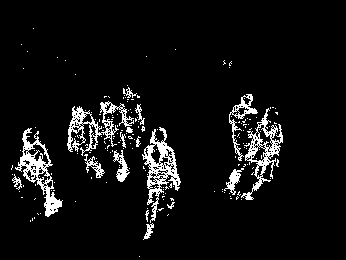person: (142, 126, 181, 244), (20, 126, 62, 219), (247, 105, 282, 205), (227, 90, 261, 190), (69, 106, 106, 182), (98, 97, 130, 183), (119, 86, 147, 155)
